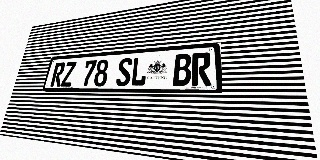7: (80, 60, 97, 86)
8: (93, 59, 110, 86)
B: (173, 53, 191, 86)
L: (130, 56, 148, 86)
R: (192, 52, 211, 86), (50, 62, 66, 87)
S: (115, 57, 133, 86)
Z: (61, 61, 77, 87)
